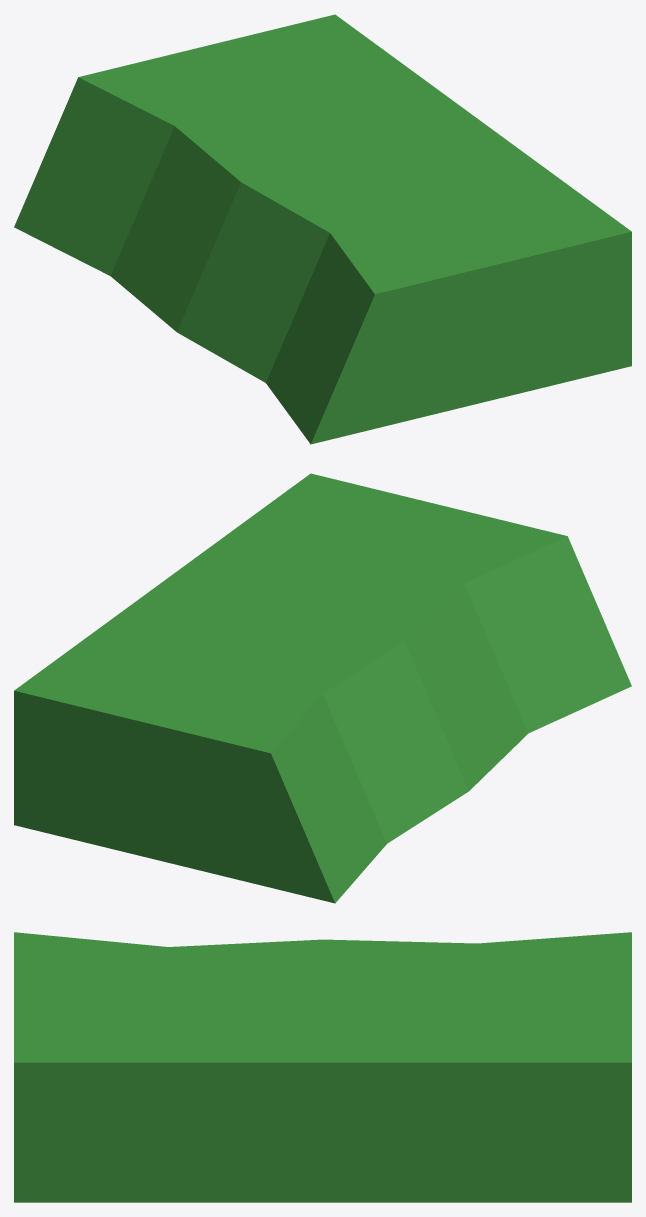
Rendered from pond_straight_001.fbx.
3 views of the same model, one above another, from view 1: azimuth 30°, elevation 25°; view 2: azimuth 150°, elevation 25°; view 3: azimuth 270°, elevation 25° (orthographic). The views are drawn at different scales.
Parts seen in each view (by area): view 1: pond.straight.001; view 2: pond.straight.001; view 3: pond.straight.001.
Part boxes in pixels (x1=…): pond.straight.001: x1=14, y1=14, x2=631, y2=444; pond.straight.001: x1=14, y1=473, x2=631, y2=903; pond.straight.001: x1=14, y1=932, x2=631, y2=1202.
Size of the model in its own units: 250 by 100 by 400.
